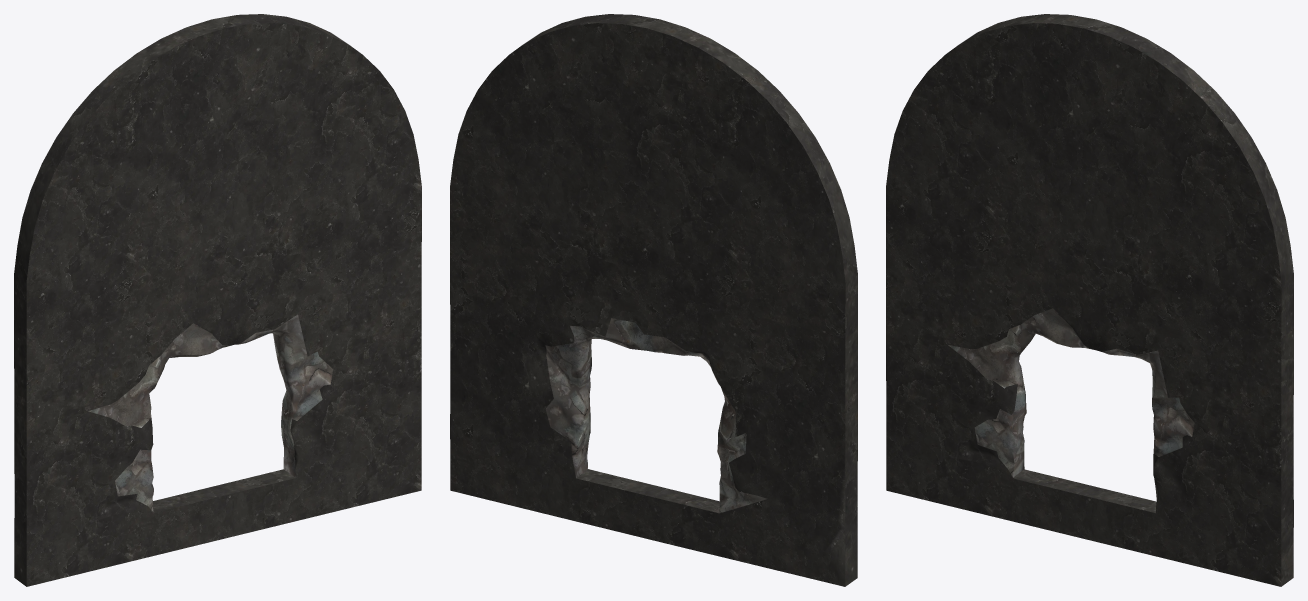
3 views of the same model, side by side, from view 1: azimuth 30°, elevation 25°; view 2: azimuth 150°, elevation 25°; view 3: azimuth 330°, elevation 25° (orthographic).
Visible parts, largest first — view 1: SM_Dowdun_Vaulted_Wall_Hole_12x12_01_LOD0; view 2: SM_Dowdun_Vaulted_Wall_Hole_12x12_01_LOD0; view 3: SM_Dowdun_Vaulted_Wall_Hole_12x12_01_LOD0.
Boxes of the visible parts, left/top/right/bottom form: SM_Dowdun_Vaulted_Wall_Hole_12x12_01_LOD0: left=14, top=14, right=421, bottom=586; SM_Dowdun_Vaulted_Wall_Hole_12x12_01_LOD0: left=450, top=14, right=857, bottom=586; SM_Dowdun_Vaulted_Wall_Hole_12x12_01_LOD0: left=886, top=14, right=1293, bottom=586.
Bounding box in the file's own units: 11.02 × 13.6 × 0.7474.
2 materials, 2 textured.
